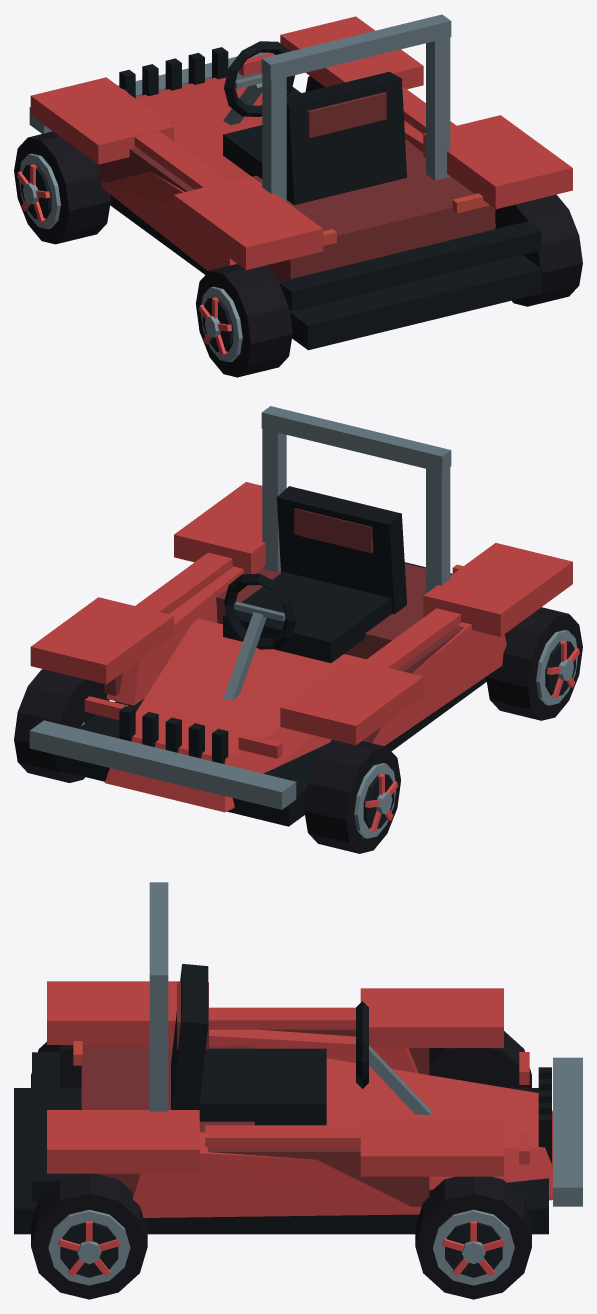
The model's file is kart.glb.
The picture shows the model from 3 angles, top to bottom: view 1: azimuth 30°, elevation 25°; view 2: azimuth 150°, elevation 25°; view 3: azimuth 270°, elevation 25°; orthographic projection. The views are drawn at different scales.
Visible parts, largest first — view 1: chassis, wheel-rear-left, wheel-front-left, wheel-rear-right; view 2: chassis, wheel-front-left, wheel-rear-left, wheel-front-right; view 3: chassis, wheel-rear-right, wheel-front-right, wheel-front-left, wheel-rear-left.
Part boxes in pixels (x1,y1,x2,y2): chassis: (29, 14, 572, 350); wheel-rear-left: (196, 264, 292, 377); wheel-front-left: (14, 131, 110, 244); wheel-rear-right: (495, 194, 582, 306); chassis: (29, 406, 572, 826); wheel-front-left: (304, 740, 400, 853); wheel-rear-left: (486, 607, 582, 720); wheel-front-right: (14, 669, 109, 782); chassis: (14, 882, 582, 1234); wheel-rear-right: (31, 1173, 147, 1299); wheel-front-right: (415, 1176, 531, 1299); wheel-front-left: (429, 1031, 531, 1087); wheel-rear-left: (31, 1042, 81, 1087).
Size of the model in its own units: 2.32 by 1.67 by 3.02.
